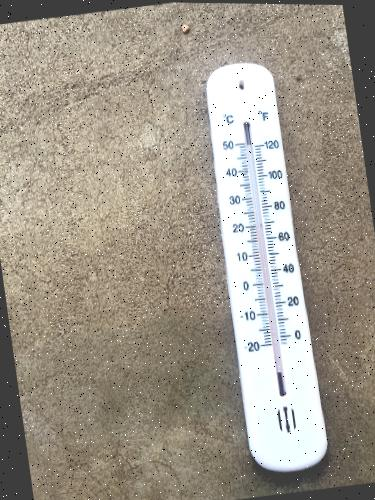thermo: (203, 66, 329, 464)
